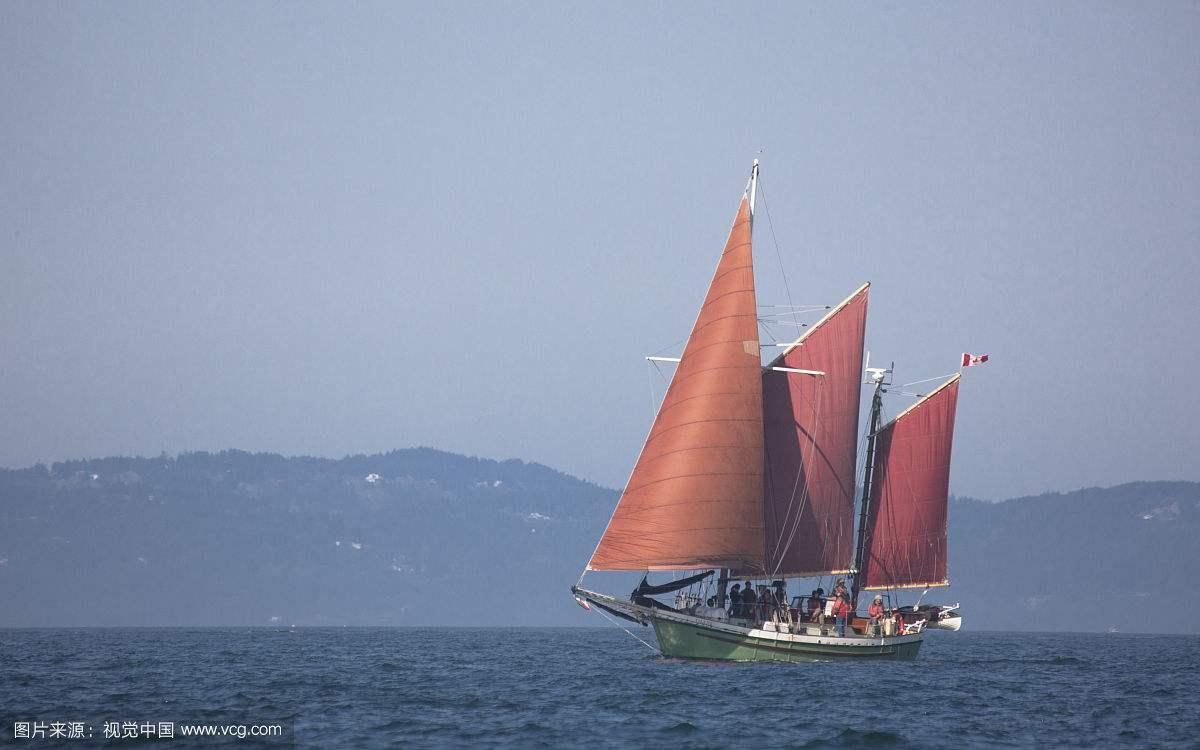fanchuan: (570, 156, 991, 665)
